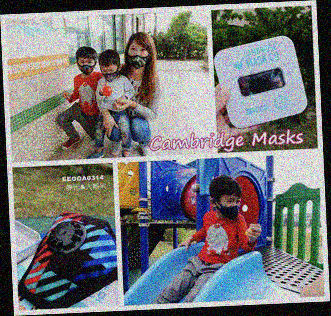with_mask: (218, 195, 243, 223), (126, 43, 150, 70), (76, 58, 96, 77), (101, 66, 120, 84)
